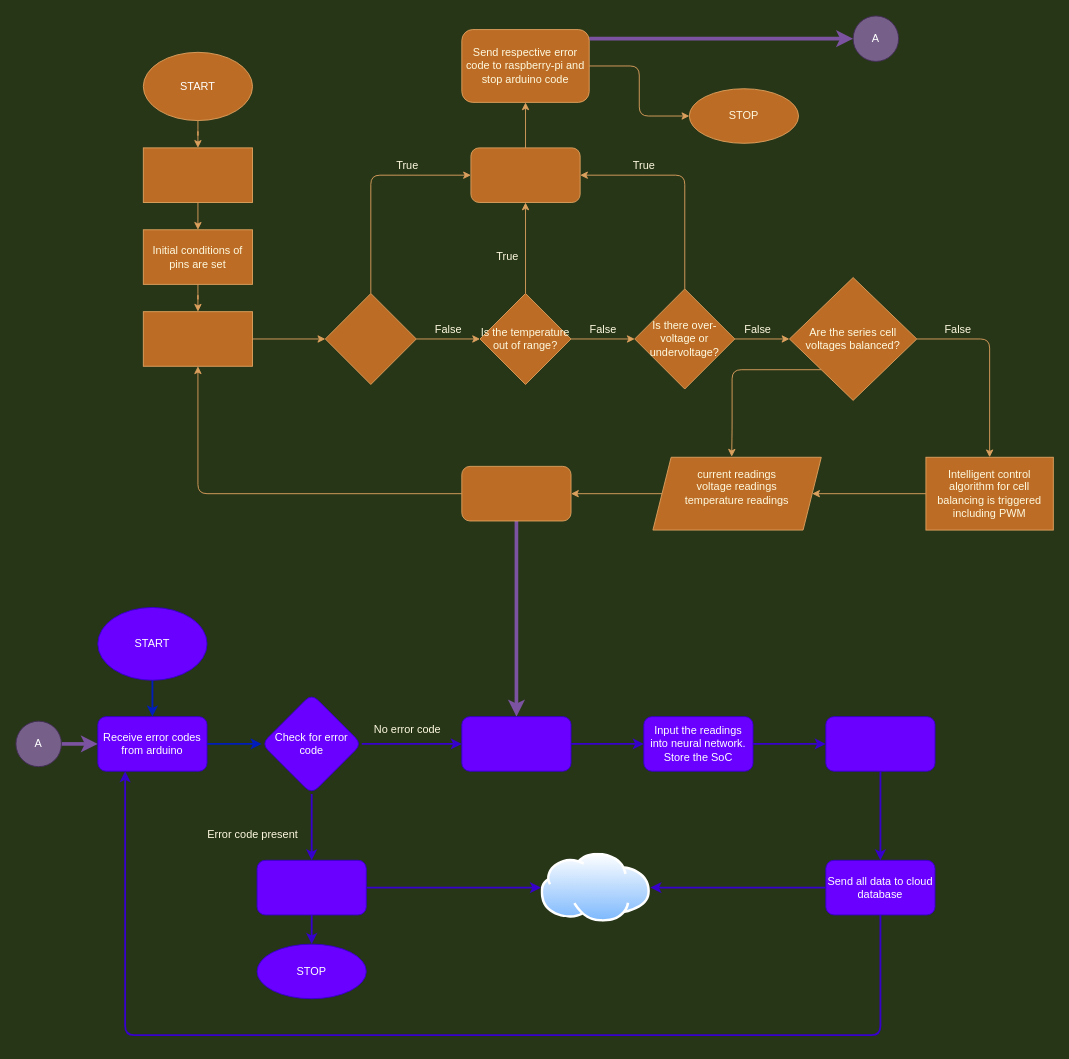
This 1069x1059 diagram has some shape labels left out. The shapes that lost their labels are listed below. From the top down, each one's box as (x1, y1, x2, y2) in pixels, then its label:
(142, 147, 253, 202): Declare and initialize all variables
(470, 147, 580, 202): Activate master-cutoff relay to open the circuit
(142, 311, 253, 366): Sense the voltage, current and temperature and store it
(324, 293, 416, 384): Is over-current present?
(461, 465, 571, 521): Data is sent to raspberry-pi
(461, 716, 571, 771): Receive data from arduino
(825, 716, 935, 771): Calculate SoH
(256, 859, 366, 915): Send error code to cloud database
